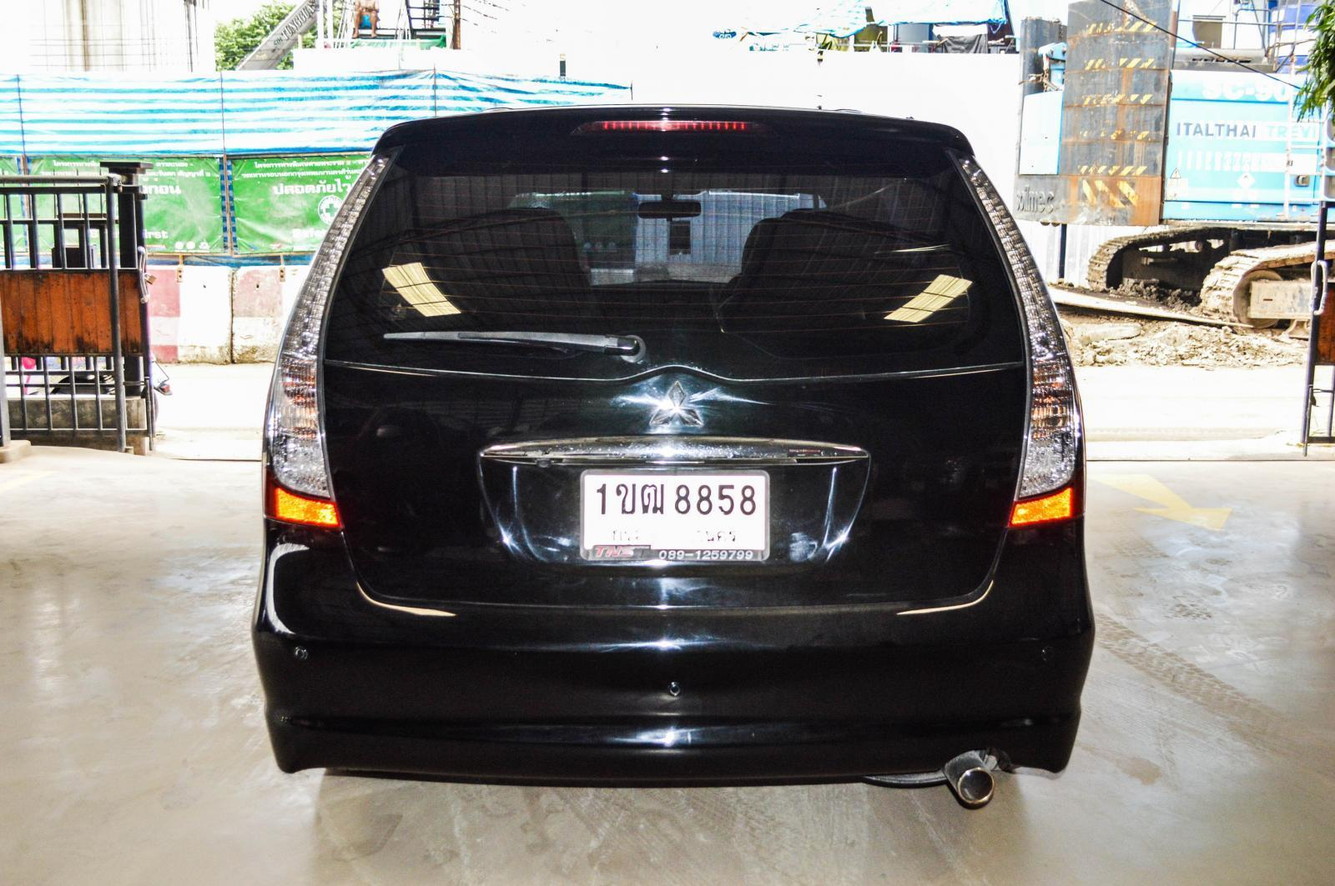license-plate: (577, 466, 775, 564)
